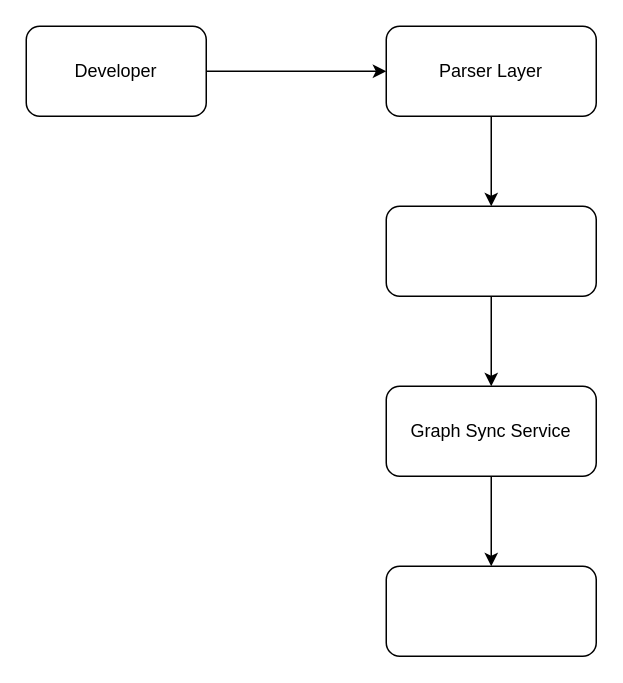
Image size: 623x683. Some labels were removed from this diagram. Here are the shapes that lost their labels. From the top down, the centre of each, then its label:
At [490,250]: "Graph Mapping Service".
At [490,610]: "KB Graph".
